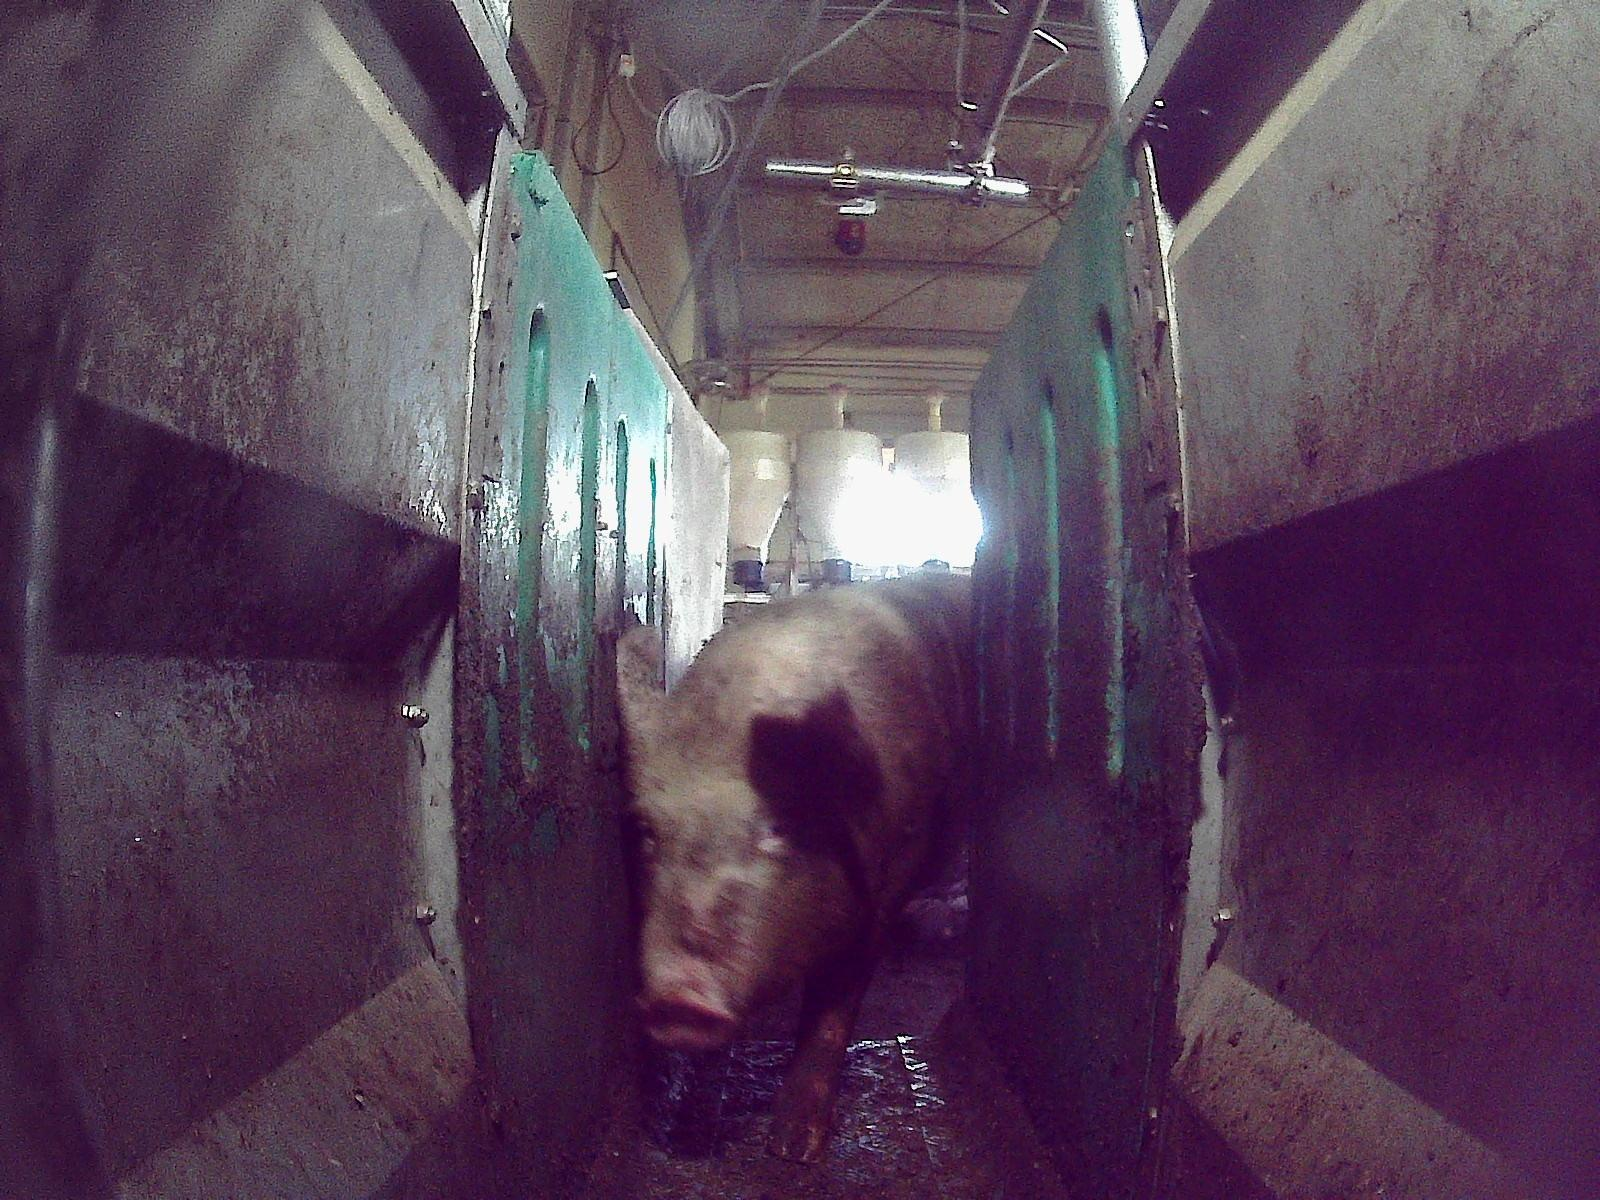Face: (622, 695, 867, 1049)
